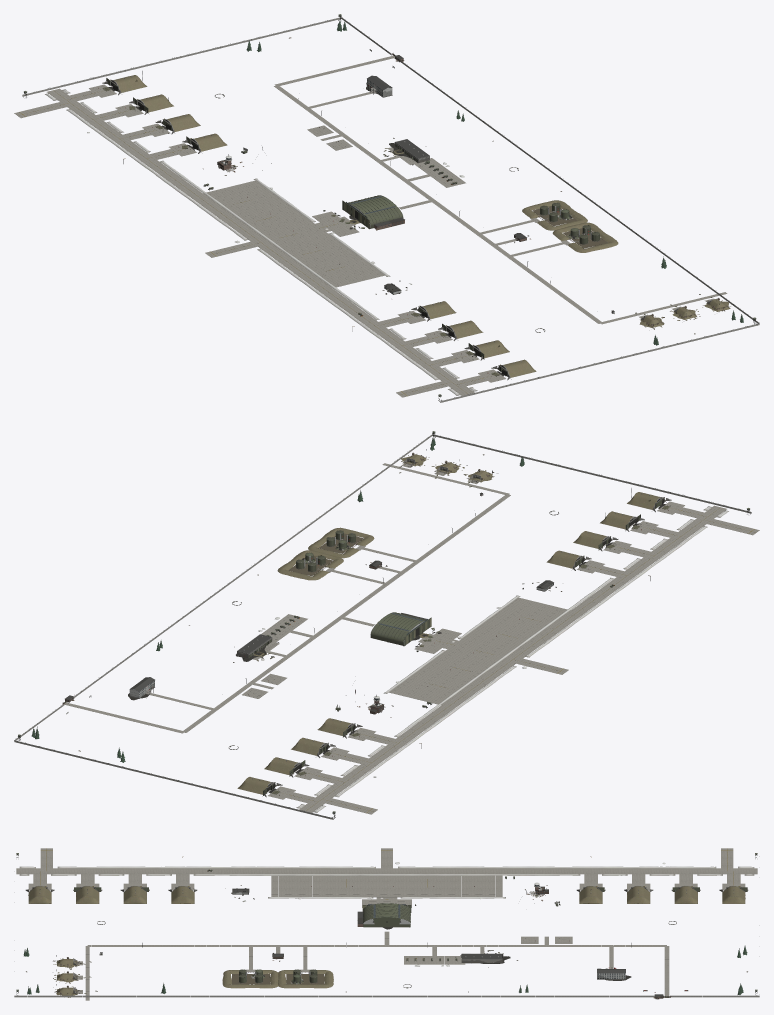
The model's file is site_air_w.glb.
3 renders of one model, top to bottom at view 1: azimuth 30°, elevation 25°; view 2: azimuth 150°, elevation 25°; view 3: azimuth 270°, elevation 25°, orthographic. The views are drawn at different scales.
Parts seen in each view (by area): view 1: deco|tile_conc, deco|A_A, deco|tile_po2, b_tech|A_A, b_gsm2|A_A, b_gsm1|A_A, b_gsm2_ruin|A_B; view 2: deco|tile_conc, deco|A_A, deco|tile_po2, b_tech|A_A, b_gsm1|A_A, b_gsm2|A_A, b_gsm2_ruin|A_B; view 3: deco|tile_conc, deco|A_A, deco|tile_po2, b_tech|A_A, b_gsm2|A_A, b_gsm1|A_A, b_gsm1_ruin|A_B, b_gsm2_ruin|A_B, b_has3|A_A, b_has7|A_A, b_box_sp|A_A, b_has6|A_A (+7 smaller).
Part boxes in pixels (bbox=[...]): deco|tile_conc: bbox=[14, 55, 727, 397]; deco|A_A: bbox=[19, 14, 756, 401]; deco|tile_po2: bbox=[22, 17, 759, 402]; b_tech|A_A: bbox=[342, 195, 404, 229]; b_gsm2|A_A: bbox=[552, 222, 618, 252]; b_gsm1|A_A: bbox=[522, 200, 587, 230]; b_gsm2_ruin|A_B: bbox=[554, 222, 617, 252]; deco|tile_conc: bbox=[64, 463, 759, 814]; deco|A_A: bbox=[18, 431, 755, 818]; deco|tile_po2: bbox=[14, 434, 751, 819]; b_tech|A_A: bbox=[370, 612, 431, 646]; b_gsm1|A_A: bbox=[278, 550, 343, 580]; b_gsm2|A_A: bbox=[308, 527, 373, 558]; b_gsm2_ruin|A_B: bbox=[308, 528, 374, 557]; deco|tile_conc: bbox=[16, 848, 757, 1000]; deco|A_A: bbox=[16, 848, 757, 995]; deco|tile_po2: bbox=[14, 995, 759, 997]; b_tech|A_A: bbox=[357, 903, 411, 927]; b_gsm2|A_A: bbox=[222, 969, 278, 988]; b_gsm1|A_A: bbox=[278, 969, 333, 988]; b_gsm1_ruin|A_B: bbox=[278, 969, 333, 988]; b_gsm2_ruin|A_B: bbox=[222, 970, 278, 988]; b_has3|A_A: bbox=[671, 885, 700, 903]; b_has7|A_A: bbox=[73, 885, 102, 903]; b_box_sp|A_A: bbox=[461, 953, 503, 963]; b_has6|A_A: bbox=[120, 885, 149, 903].
Size of the model in its own units: 530 by 33.2 by 1097.
Materials: 58 (46 with a texture image).
